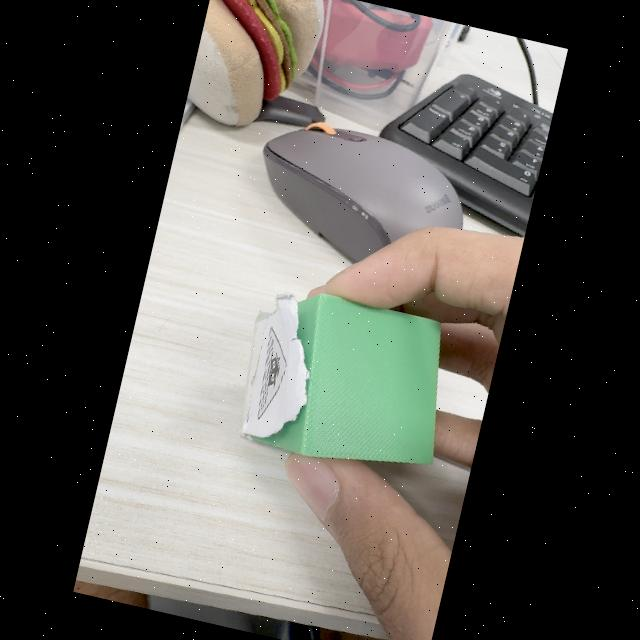Tsunami: (257, 327, 286, 419)
